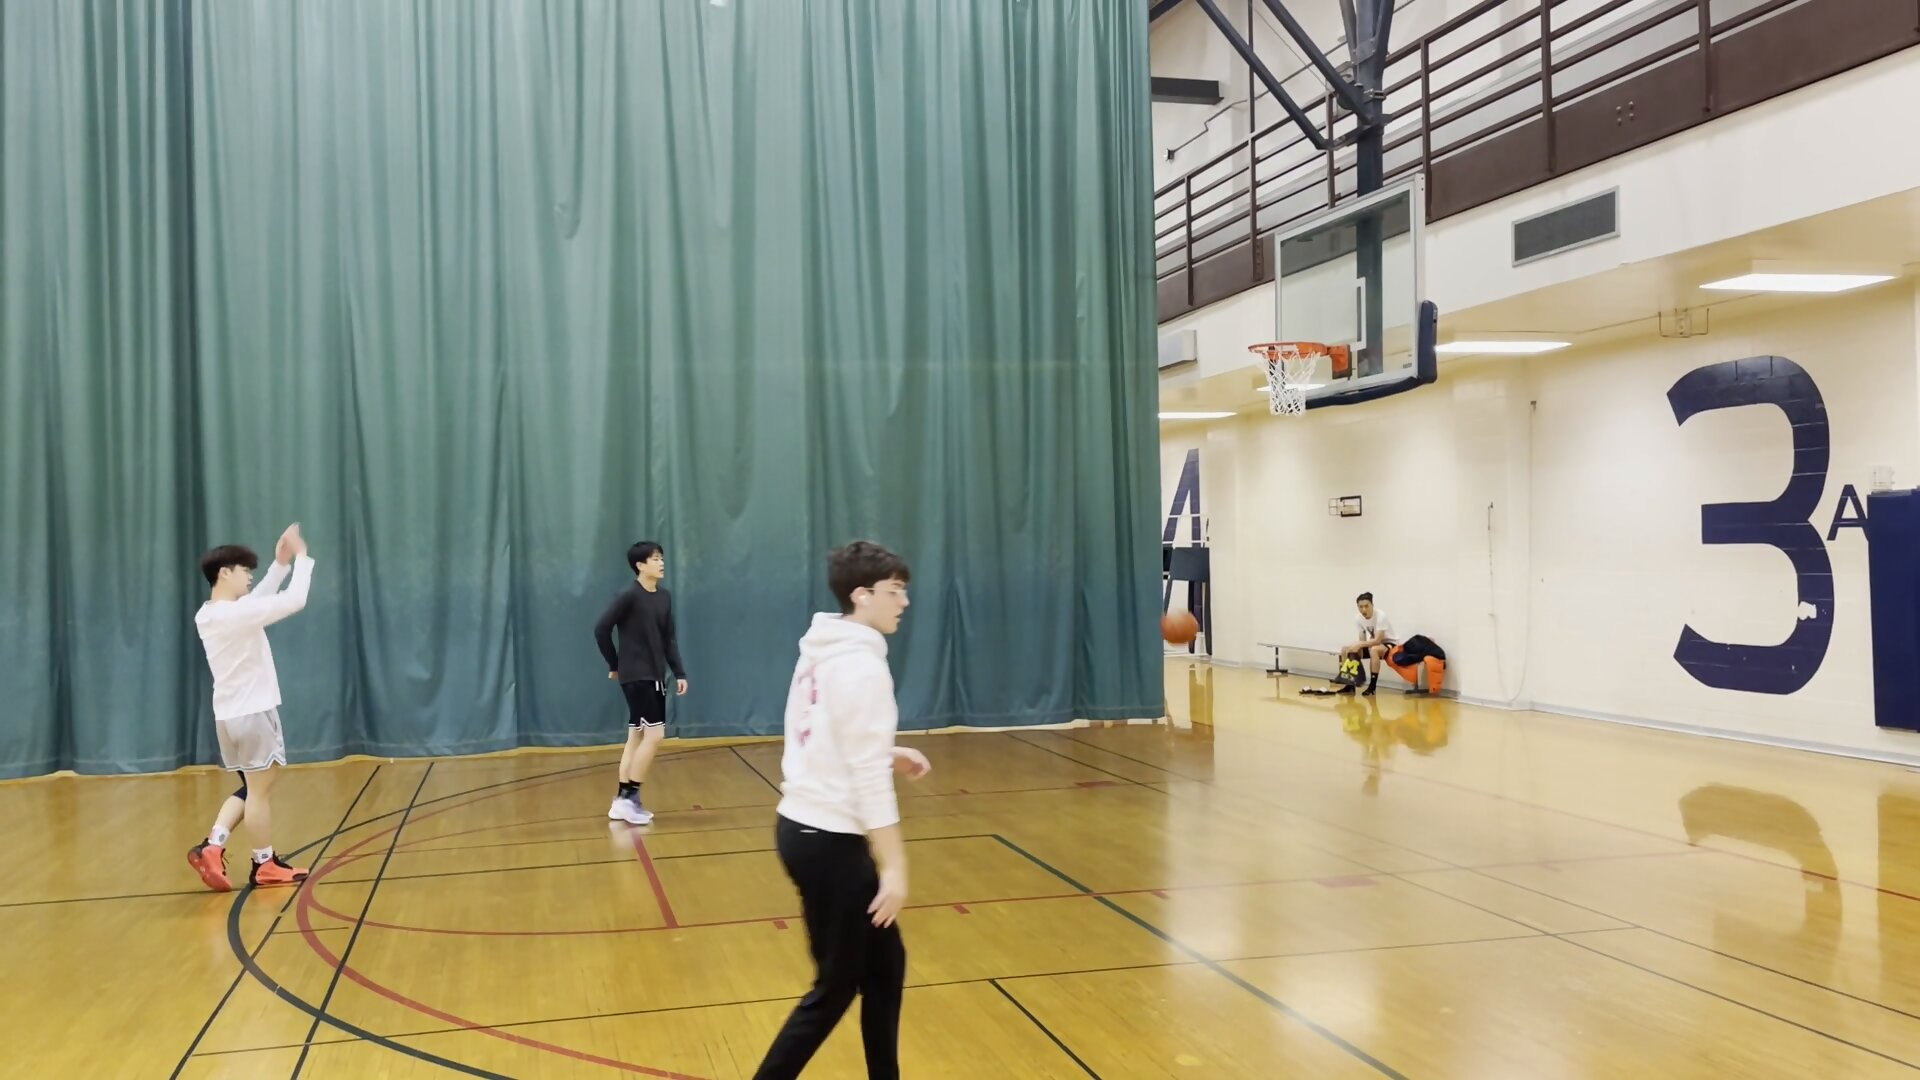ball: (1153, 602, 1207, 650)
net: (1259, 384, 1316, 426)
player: (753, 539, 934, 1077), (179, 519, 317, 898), (589, 538, 700, 830), (1334, 586, 1403, 695)
rim: (1244, 335, 1343, 363)
